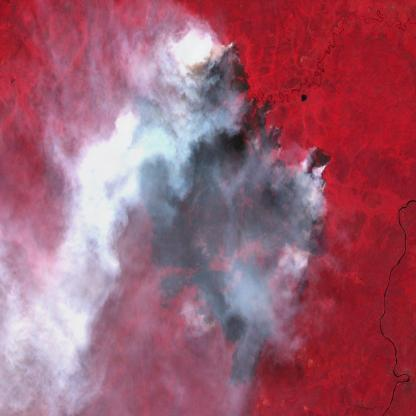fire: (123, 33, 336, 332)
